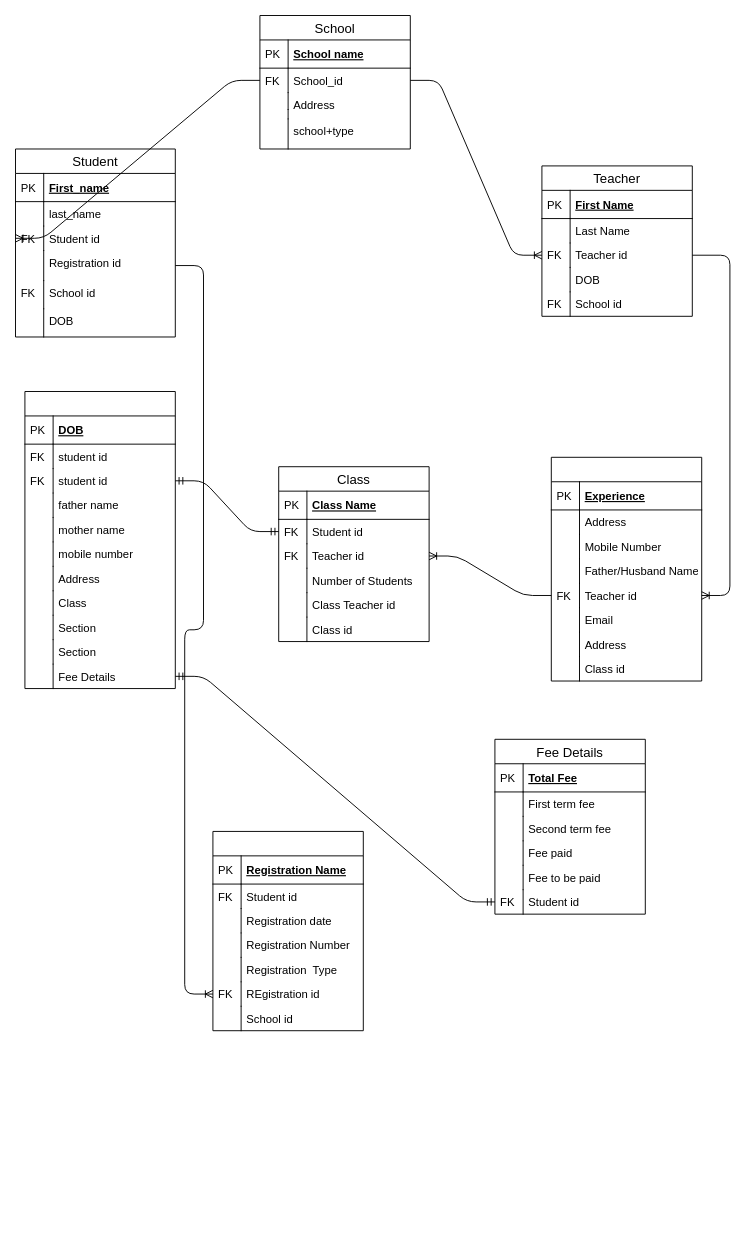
Image size: 745x1253. Some labels were removed from this diagram. Here are the shapes that lost their labels. From the top down, the box of each, then its label:
(24, 391, 175, 689): Student Details
(550, 456, 702, 681): Teacher Details
(212, 830, 363, 1031): Registratio Details
